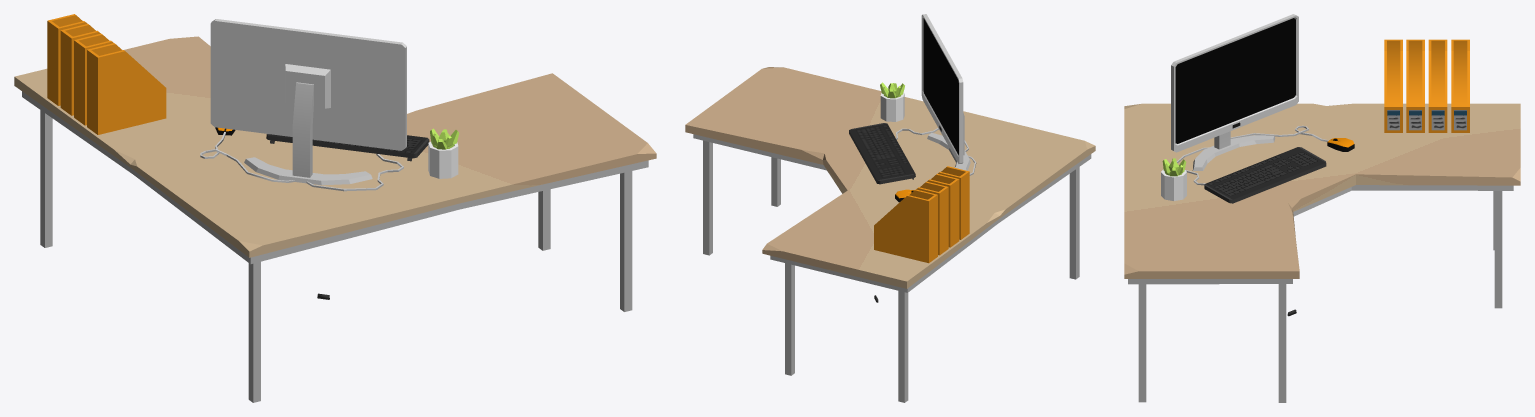
Rendered from practiceTable.glb.
3 views of the same model, side by side, from view 1: azimuth 30°, elevation 25°; view 2: azimuth 150°, elevation 25°; view 3: azimuth 270°, elevation 25° (orthographic). The views are drawn at different scales.
Parts seen in each view (by area): view 1: PracticeTable, PracticeTableComputer, PracticeTableBookHolder; view 2: PracticeTable, PracticeTableBookHolder, PracticeTableComputer, PracticeTableComputerScreen; view 3: PracticeTable, PracticeTableComputerScreen, PracticeTableComputer, PracticeTableBookHolder.
Boxes of the visible parts, <box> form: PracticeTable: <box>14,36,656,402</box>; PracticeTableComputer: <box>200,19,429,191</box>; PracticeTableBookHolder: <box>47,14,166,134</box>; PracticeTable: <box>685,67,1095,402</box>; PracticeTableBookHolder: <box>874,166,969,263</box>; PracticeTableComputer: <box>849,14,976,202</box>; PracticeTableComputerScreen: <box>923,18,958,155</box>; PracticeTable: <box>1124,103,1520,402</box>; PracticeTableComputerScreen: <box>1175,18,1295,143</box>; PracticeTableComputer: <box>1171,14,1354,203</box>; PracticeTableBookHolder: <box>1384,39,1469,132</box>.
Bounding box in the file's own units: 1.96 × 1.4 × 1.96.
4 materials, 4 textured.
